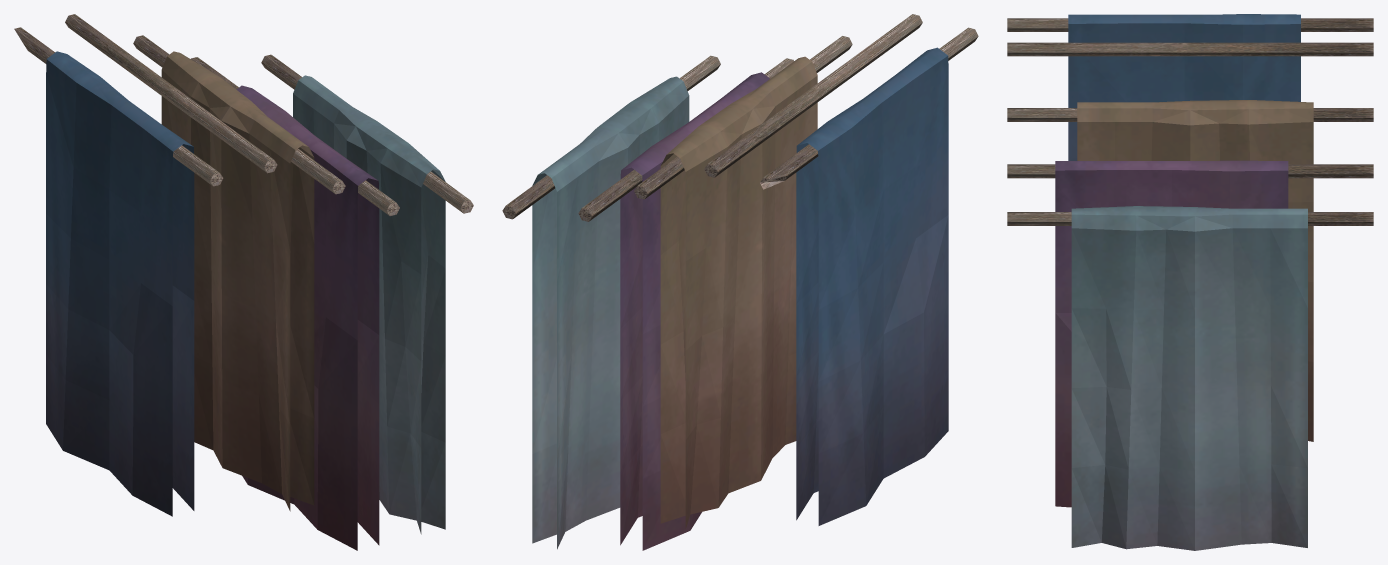
Rendered from bg_anh_mirrorv_dc06_sm_ysi.FBX.
The picture shows the model from 3 angles, left to right: view 1: azimuth 30°, elevation 25°; view 2: azimuth 150°, elevation 25°; view 3: azimuth 270°, elevation 25°; orthographic projection. The views are drawn at different scales.
Parts seen in each view (by area): view 1: bg_anh_mirrorv_dc06_sm_ysi; view 2: bg_anh_mirrorv_dc06_sm_ysi; view 3: bg_anh_mirrorv_dc06_sm_ysi.
Part boxes in pixels (bbox=[...]): bg_anh_mirrorv_dc06_sm_ysi: bbox=[14, 14, 473, 550]; bg_anh_mirrorv_dc06_sm_ysi: bbox=[502, 14, 978, 550]; bg_anh_mirrorv_dc06_sm_ysi: bbox=[1007, 14, 1373, 550].
Size of the model in its own units: 151 by 219 by 175.
